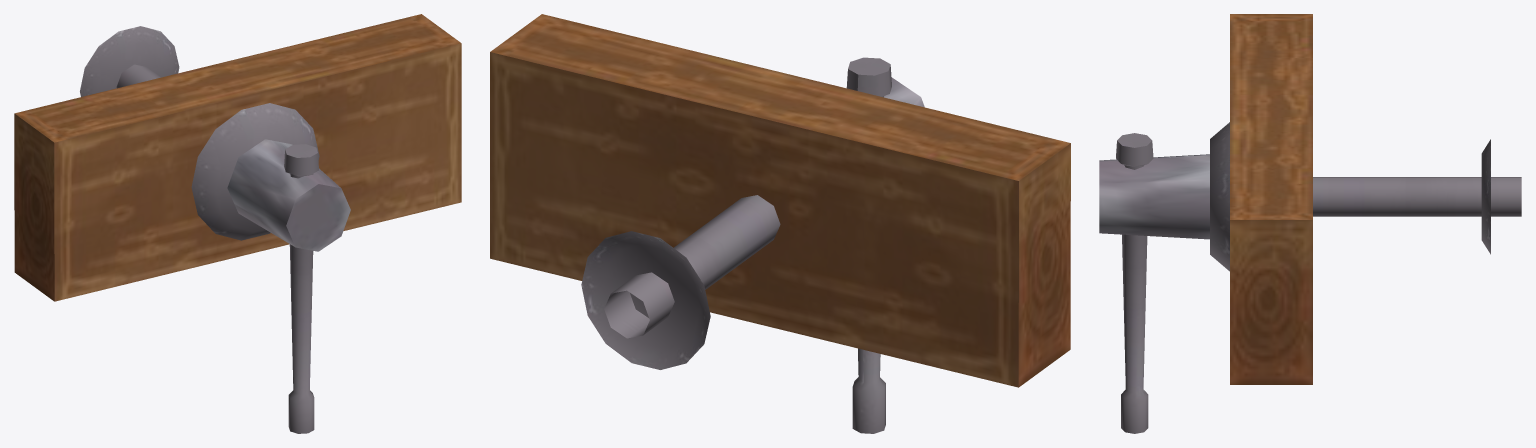
Rendered from Workbench_Vice.gltf.
The picture shows the model from 3 angles, left to right: view 1: azimuth 30°, elevation 25°; view 2: azimuth 150°, elevation 25°; view 3: azimuth 270°, elevation 25°; orthographic projection. The views are drawn at different scales.
Visible parts, largest first — view 1: Workbench_Vice; view 2: Workbench_Vice; view 3: Workbench_Vice.
Part boxes in pixels (<box>): Workbench_Vice: <box>14,14,461,433</box>; Workbench_Vice: <box>490,14,1070,433</box>; Workbench_Vice: <box>1099,14,1521,433</box>.
Size of the model in its own units: 0.3978 by 0.2813 by 0.3445.
2 materials, 2 textured.
